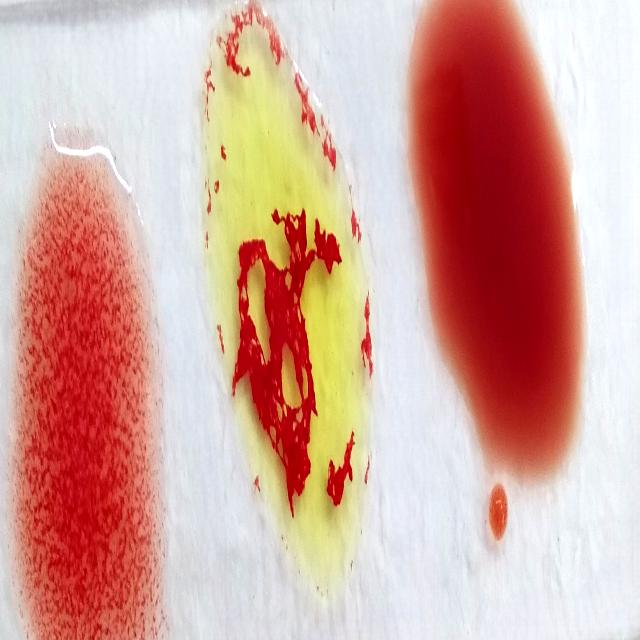B: (202, 2, 376, 586)
D: (17, 154, 155, 640)
